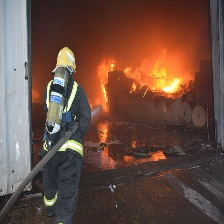fire: (122, 54, 183, 98), (96, 57, 117, 104)
